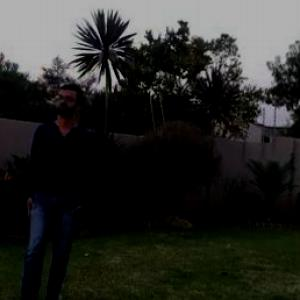follow: (12, 43, 101, 299)
